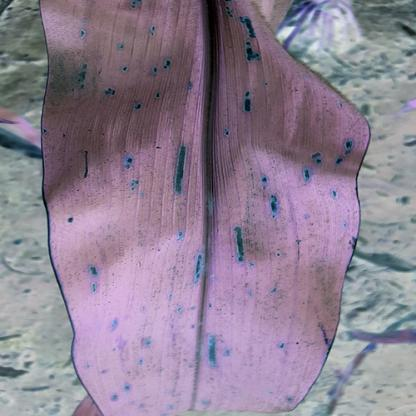Corn leaf blight: (36, 0, 365, 416)
